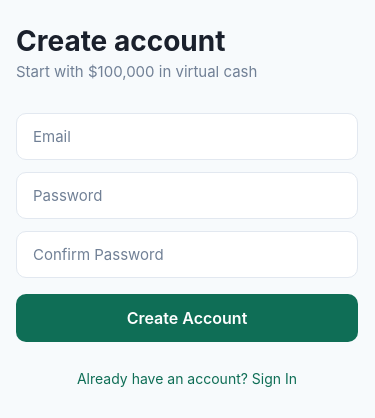
SignUpScreen › shows API error on failed sign up
Type "user@example.com" into the field with placeholder "Email". click: (187, 136)
box: [16, 112, 358, 160]
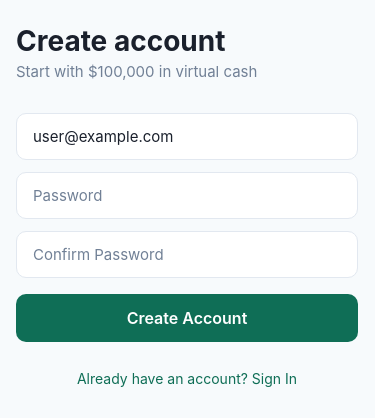
Type "password123" into the password field with placeholder "Password". click: (187, 195)
box: [16, 172, 358, 218]
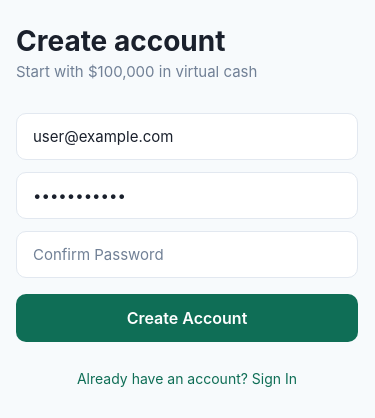
Type "password123" into the password field with placeholder "Confirm Password". click: (187, 254)
box: [16, 230, 358, 278]
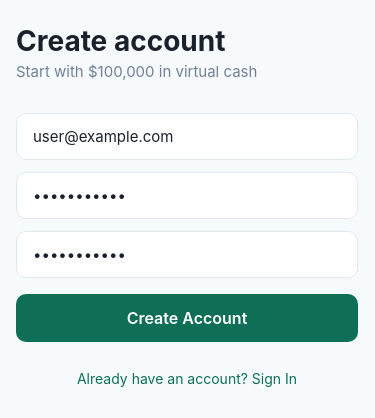
Click the text "Create Account". click: (187, 318)
box: [127, 308, 247, 328]
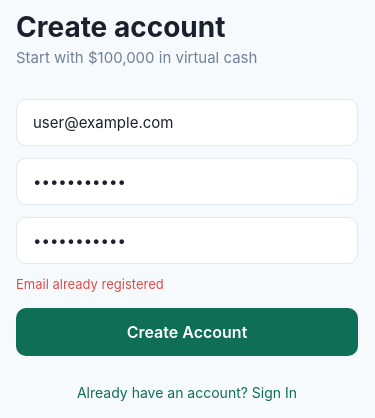
Now the text "Email already registered" is shown, box [16, 276, 164, 292]
